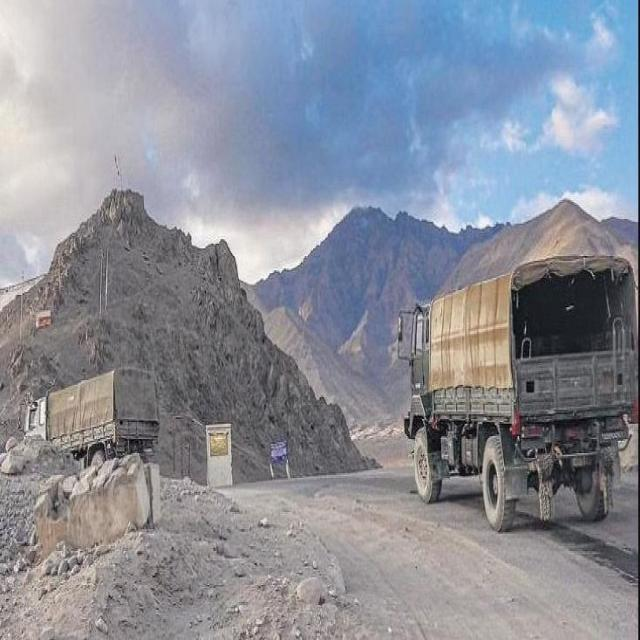truck: (398, 253, 635, 529), (25, 369, 159, 466)
